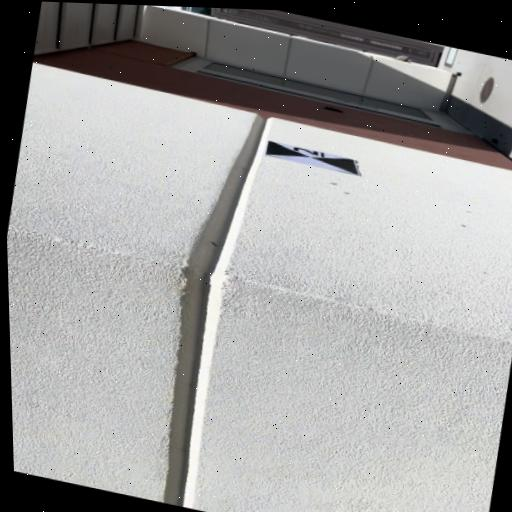target2: (266, 140, 360, 175)
